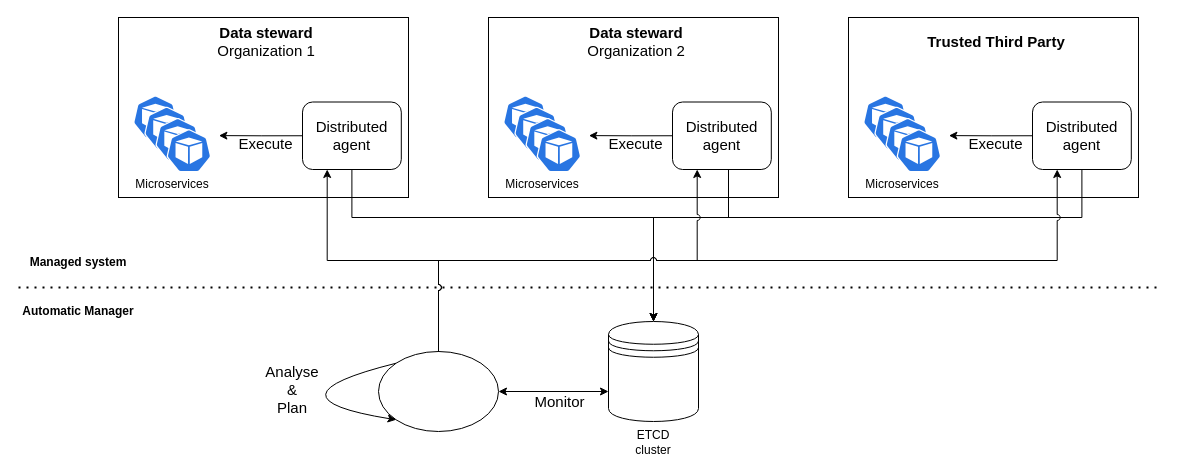
Image size: 1177x475. Some labels were removed from this diagram. Here are the shapes that lost their labels. From the top down, the centre of each, then its label:
At point (438, 391): "Orchestrator".
At point (653, 371): "Knowledge".
